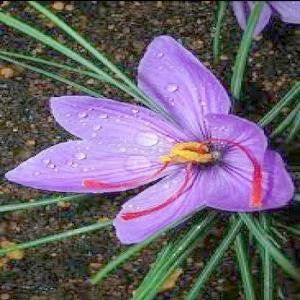Saffron: (5, 36, 292, 248)
